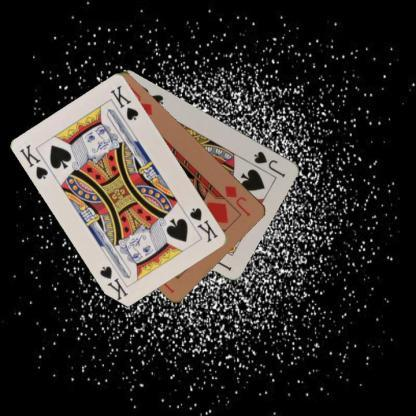Jd: (222, 182, 252, 218)
Js: (251, 148, 287, 179)
Ks: (187, 206, 220, 244), (17, 142, 50, 180)
